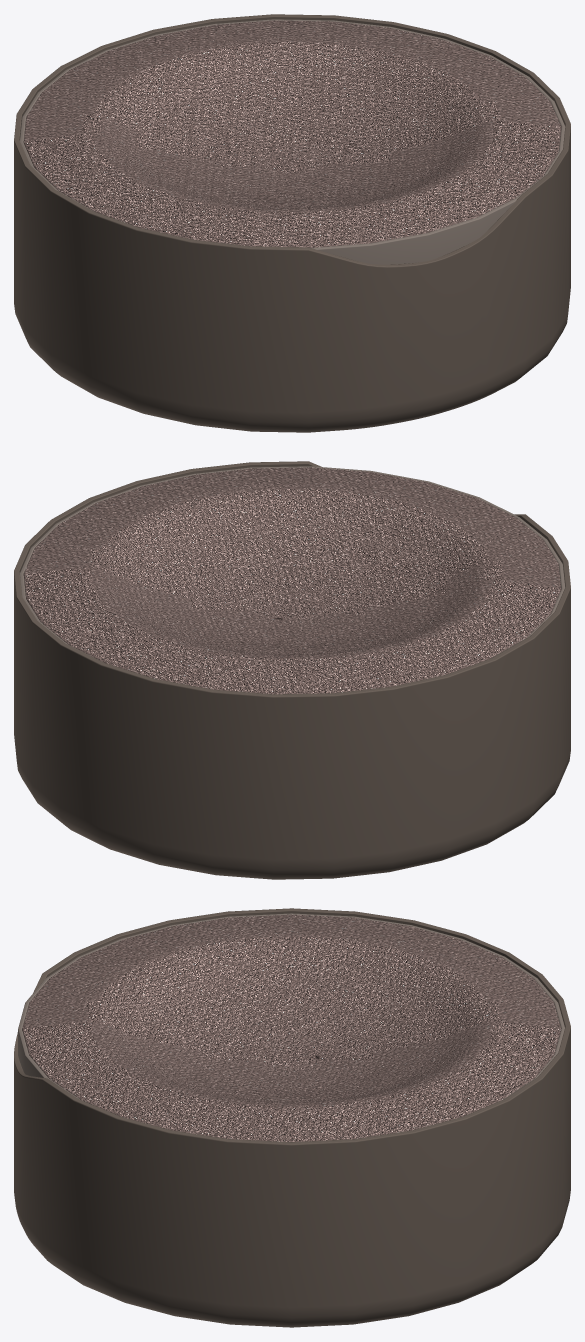
File: MEGA_PACK_Pet__pet-61727_brown_frame.glb
3 renders of one model, top to bottom at view 1: azimuth 30°, elevation 25°; view 2: azimuth 150°, elevation 25°; view 3: azimuth 270°, elevation 25°, orthographic.
Visible parts, largest first — view 1: pet-61727_brown__frame; view 2: pet-61727_brown__frame; view 3: pet-61727_brown__frame.
Boxes of the visible parts, left/top/right/bottom form: pet-61727_brown__frame: left=14, top=14, right=570, bottom=432; pet-61727_brown__frame: left=14, top=461, right=570, bottom=879; pet-61727_brown__frame: left=14, top=908, right=570, bottom=1327.
Size of the model in its own units: 0.46 by 0.18 by 0.4587.
Materials: 1 (1 with a texture image).
